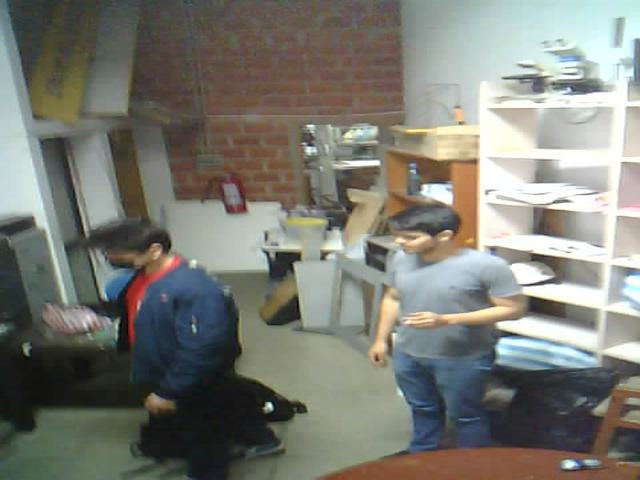person: (47, 173, 275, 480), (344, 173, 536, 471)
